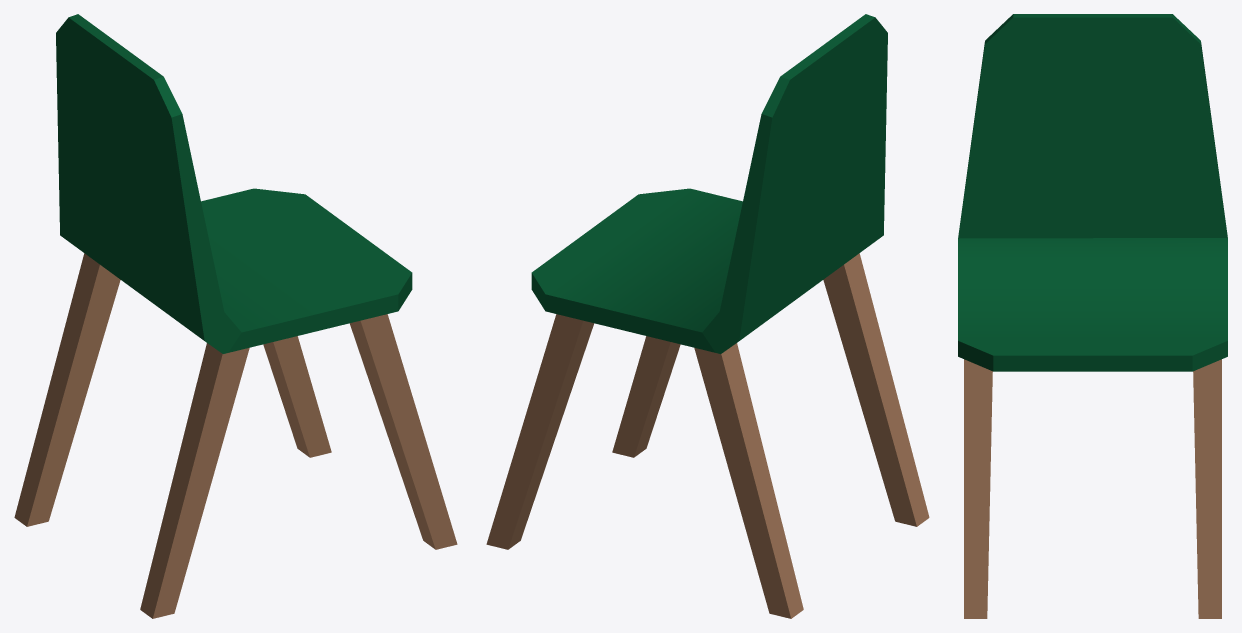
Rendered from SecureGuardChair.fbx.
3 views of the same model, side by side, from view 1: azimuth 30°, elevation 25°; view 2: azimuth 150°, elevation 25°; view 3: azimuth 270°, elevation 25° (orthographic). The views are drawn at different scales.
Visible parts, largest first — view 1: worldspawn_1503, worldspawn_396; view 2: worldspawn_1503, worldspawn_396; view 3: worldspawn_1503, worldspawn_396.
Part boxes in pixels (x1,y1,x2,y2): worldspawn_1503: (56, 14, 412, 353); worldspawn_396: (14, 253, 457, 618); worldspawn_1503: (531, 14, 887, 353); worldspawn_396: (486, 253, 929, 618); worldspawn_1503: (958, 14, 1227, 371); worldspawn_396: (964, 359, 1221, 618).
Bounding box in the file's own units: 28 × 45.11 × 23.
